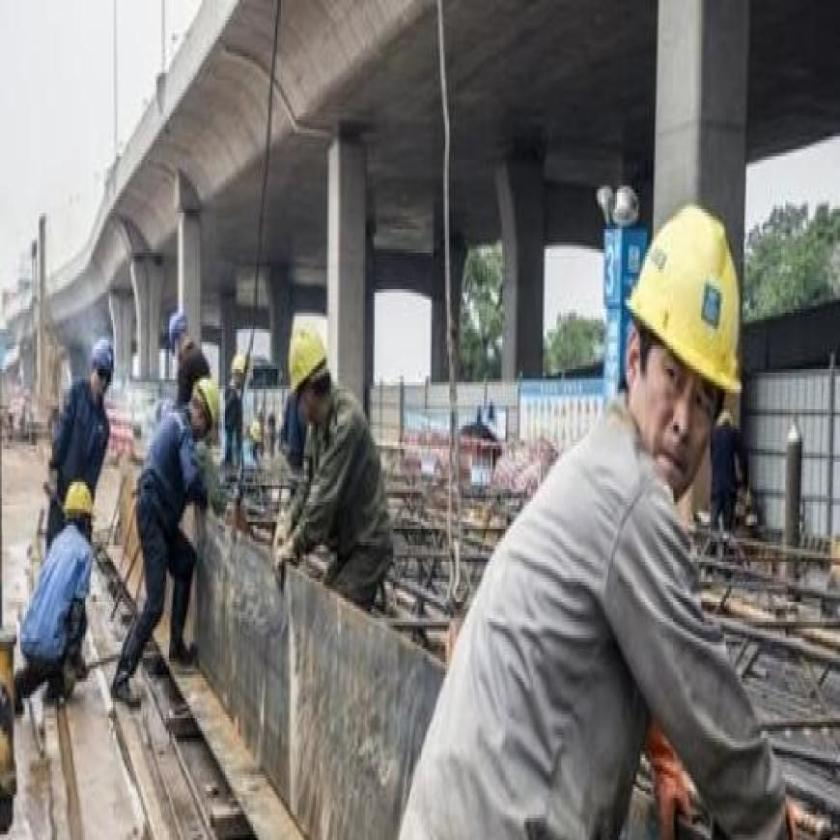Con_casco: (632, 198, 747, 518), (285, 321, 332, 432), (62, 479, 100, 546), (190, 374, 222, 448), (89, 332, 118, 413), (164, 308, 190, 360)
